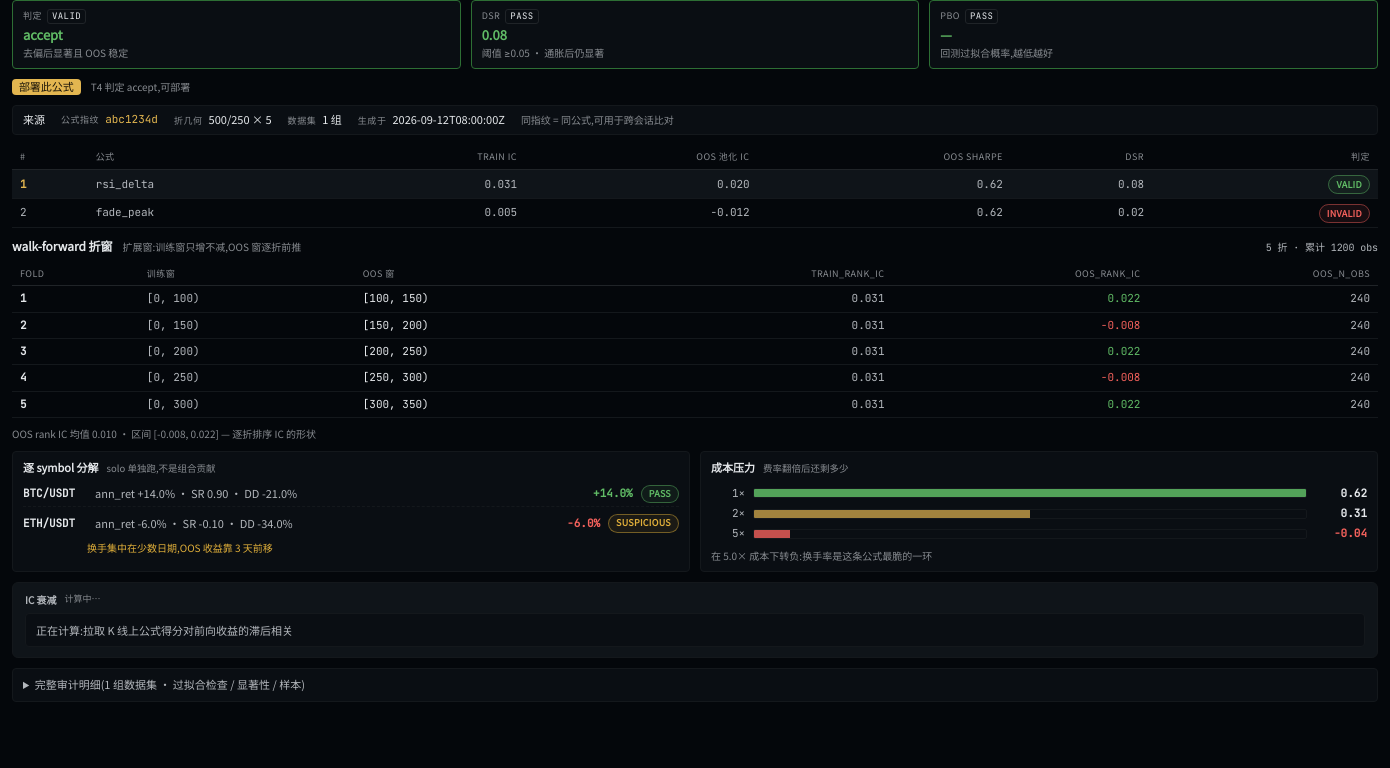
it: ValidationPane(US-005) › deploy 按钮:reject 禁用 + title 含 T4 门控裁定原因(与后端 403 同语义)
The width and height of the screenshot is (1390, 768).
Click the row with test id "formula-row-1" at (695, 213), box [12,199,1378,227]
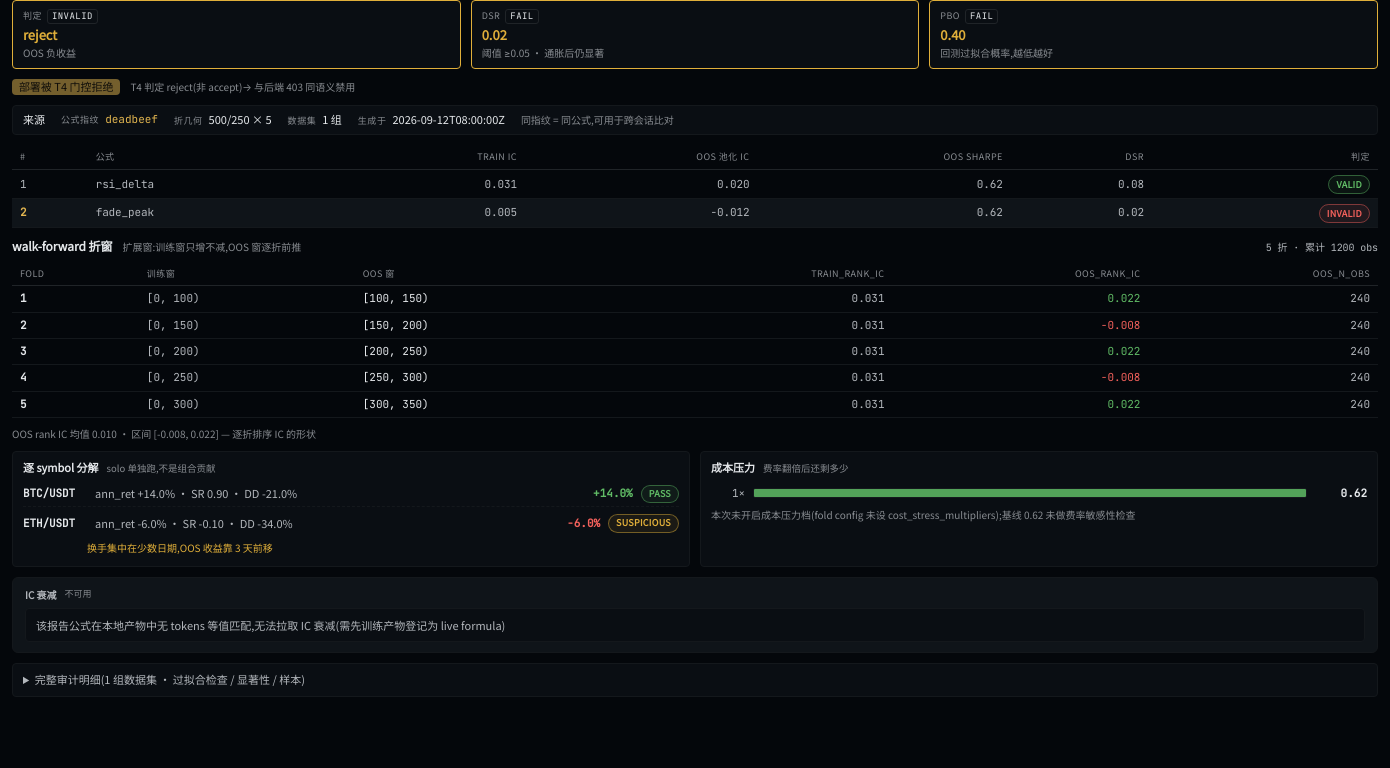
Now the button with test id "deploy-formula" is disabled, box [12,79,120,95]
